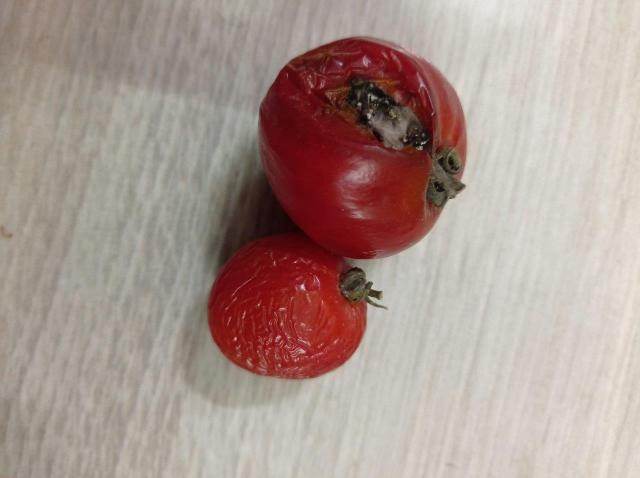defect: (256, 36, 472, 262)
